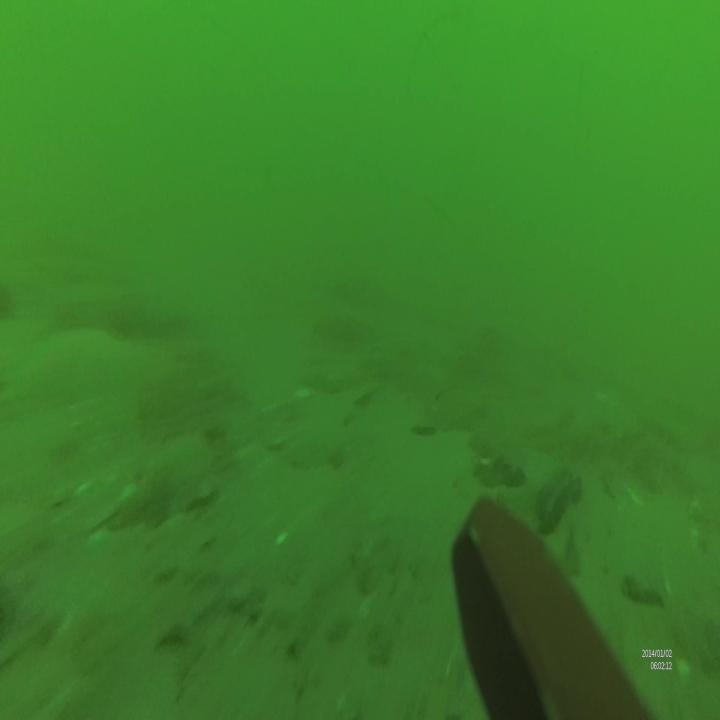starfish: (0, 320, 180, 455)
